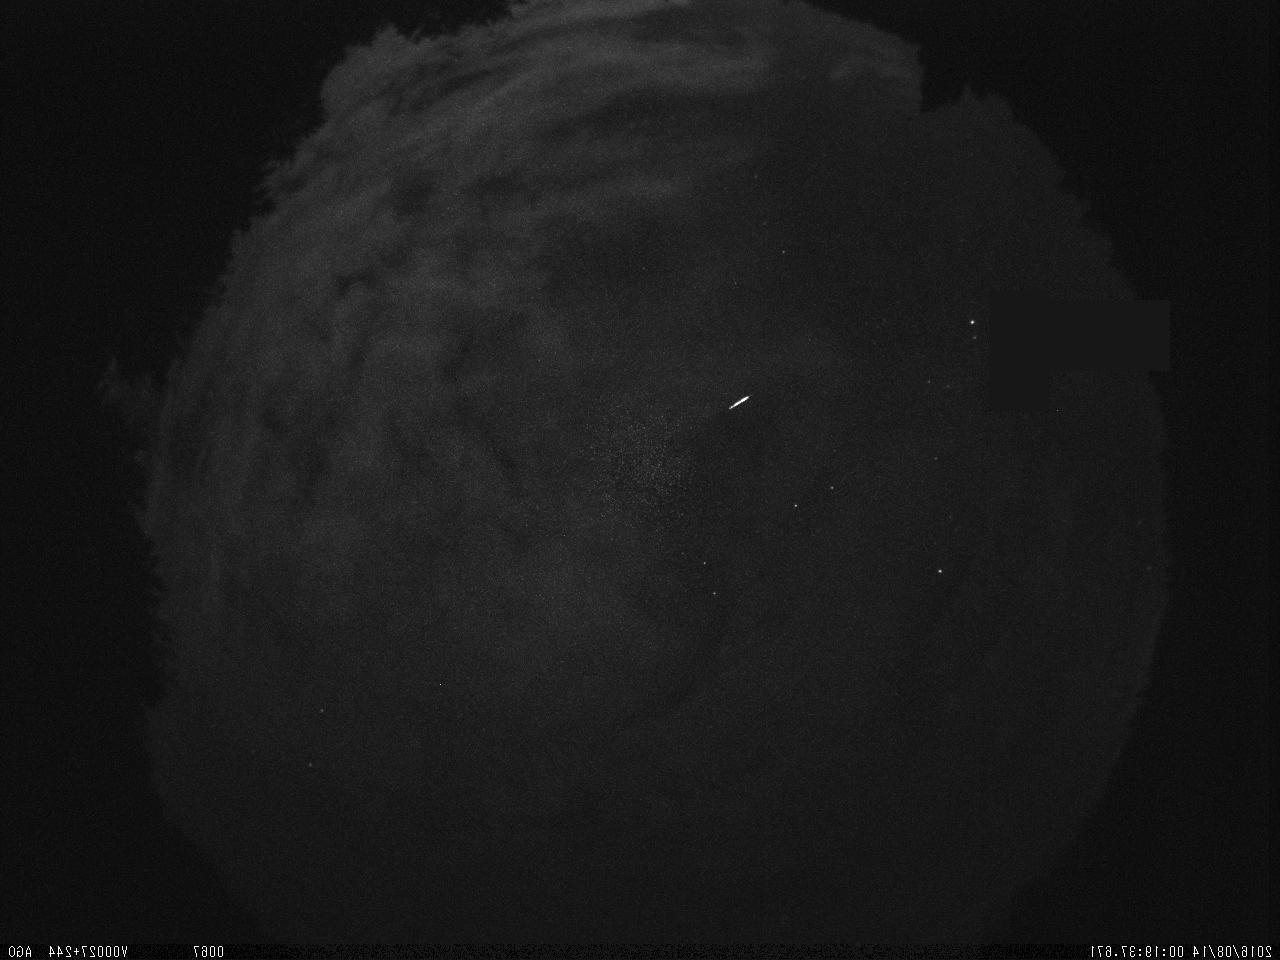meteor: (721, 389, 759, 414)
